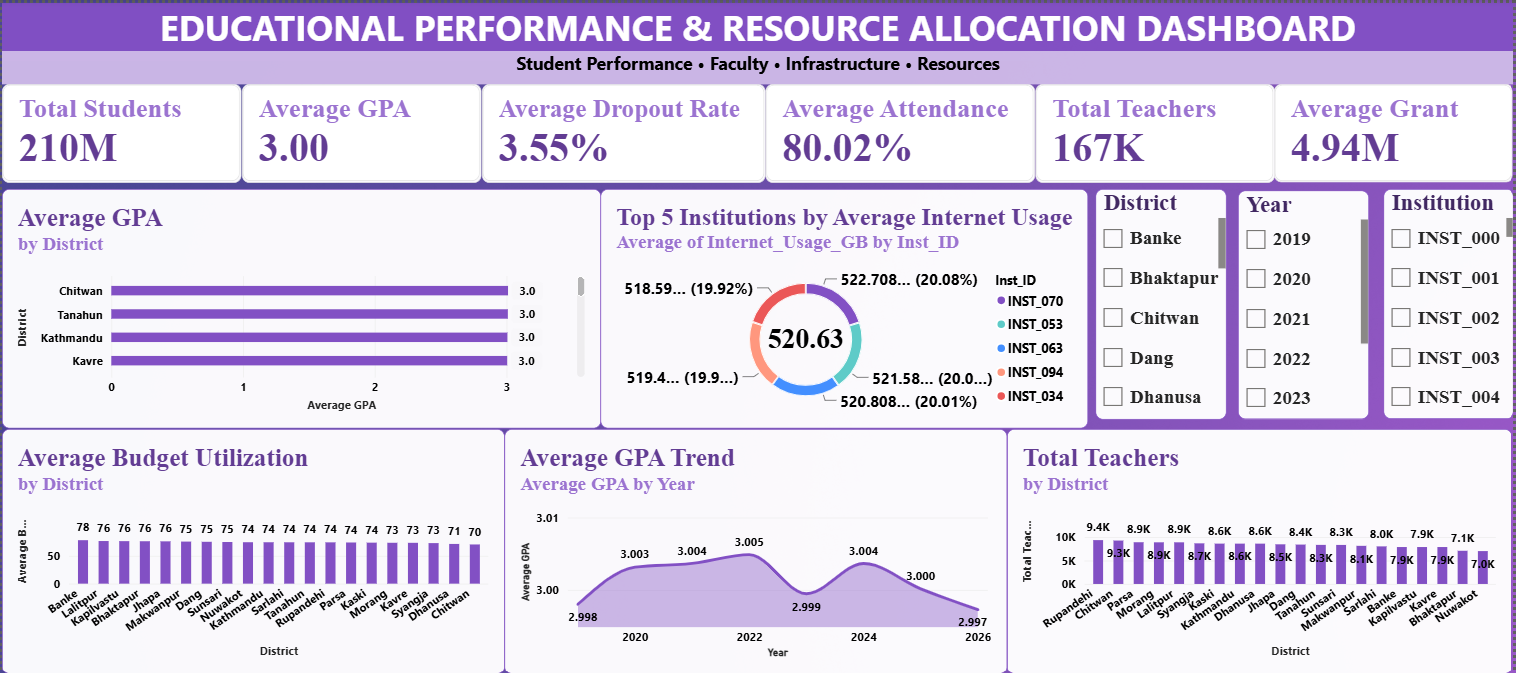

The page's visual inventory and layout, read from the dashboard file:
{"tool":"powerbi","page":{"name":"Page 1","canvas":[1600,710],"ordinal":0},"visuals":[{"type":"textbox","box":[0,0,1600,61.3],"z":0},{"type":"textbox","box":[0,50,1600,35.5],"z":1000},{"type":"cardVisual","fields":{"Data":["Student_Performance_Readings.Total Students"]},"box":[0,85.7,253.2,104.8],"z":2000},{"type":"cardVisual","fields":{"Data":["Student_Performance_Readings.Average GPA"]},"box":[254,85.7,253.2,104.8],"z":3000},{"type":"cardVisual","fields":{"Data":["Student_Performance_Readings.Average Attendance"]},"box":[807.9,85.7,285,104.8],"z":4000},{"type":"cardVisual","fields":{"Data":["Student_Performance_Readings.Average Dropout Rate"]},"box":[507.9,85.7,300,104.8],"z":5000},{"type":"cardVisual","fields":{"Data":["Teacher_and_Resources.Total Teachers"]},"box":[1093.7,85.7,253,104.8],"z":6000},{"type":"cardVisual","fields":{"Data":["Teacher_and_Resources.Average Grant"]},"box":[1346,85.7,253.2,104],"z":7000},{"type":"clusteredBarChart","fields":{"Y":["Student_Performance_Readings.Average GPA"],"Category":["Education_Institutions.District"]},"box":[0,196.8,633.9,253.2],"z":8000},{"type":"clusteredColumnChart","fields":{"Y":["Teacher_and_Resources.Total Teachers"],"Category":["Teacher_and_Resources.District"]},"box":[1063.5,450.8,534.9,260.3],"z":9000},{"type":"clusteredColumnChart","fields":{"Category":["Teacher_and_Resources.District"],"Y":["Teacher_and_Resources.Average Budget Utilization"]},"box":[0,450,532,260],"z":10000},{"type":"donutChart","title":"Top 5 Institutions by Average Internet Usage","fields":{"Category":["Infrastructure_Usage.Inst_ID"],"Y":["Avg(Infrastructure_Usage.Internet_Usage_GB)"]},"box":[633.3,196.8,516.1,253.2],"z":11000},{"type":"lineChart","title":"Average GPA Trend","fields":{"Y":["Student_Performance_Readings.Average GPA"],"Category":["Student_Performance_Readings.Year"]},"box":[532.3,450,532.3,260],"z":12000},{"type":"slicer","fields":{"Values":["Education_Institutions.District"]},"box":[1156.5,196.8,138.7,244],"z":13000},{"type":"slicer","fields":{"Values":["Teacher_and_Resources.Year"]},"box":[1308.1,198.4,138.7,241.9],"z":14000},{"type":"slicer","fields":{"Values":["Infrastructure_Usage.Inst_ID"]},"box":[1461.3,196.8,138.7,243.5],"z":15000}]}

Visuals, with their boxes in screenshot pixels (x1, y1, x2, y2), scaled from the page's 1600x710 canvas onto the 1516x673 screenshot:
textbox: x1=0 y1=0 x2=1515 y2=58
textbox: x1=0 y1=47 x2=1515 y2=81
cardVisual - Student_Performance_Readings.Total Students: x1=0 y1=81 x2=240 y2=181
cardVisual - Student_Performance_Readings.Average GPA: x1=241 y1=81 x2=481 y2=181
cardVisual - Student_Performance_Readings.Average Attendance: x1=765 y1=81 x2=1036 y2=181
cardVisual - Student_Performance_Readings.Average Dropout Rate: x1=481 y1=81 x2=765 y2=181
cardVisual - Teacher_and_Resources.Total Teachers: x1=1036 y1=81 x2=1276 y2=181
cardVisual - Teacher_and_Resources.Average Grant: x1=1275 y1=81 x2=1515 y2=180
clusteredBarChart - Student_Performance_Readings.Average GPA x Education_Institutions.District: x1=0 y1=187 x2=601 y2=427
clusteredColumnChart - Teacher_and_Resources.Total Teachers x Teacher_and_Resources.District: x1=1008 y1=427 x2=1514 y2=672
clusteredColumnChart - Teacher_and_Resources.District x Teacher_and_Resources.Average Budget Utilization: x1=0 y1=427 x2=504 y2=672
"Top 5 Institutions by Average Internet Usage" donutChart: x1=600 y1=187 x2=1089 y2=427
"Average GPA Trend" lineChart: x1=504 y1=427 x2=1009 y2=672
slicer - Education_Institutions.District: x1=1096 y1=187 x2=1227 y2=418
slicer - Teacher_and_Resources.Year: x1=1239 y1=188 x2=1371 y2=417
slicer - Infrastructure_Usage.Inst_ID: x1=1385 y1=187 x2=1515 y2=417
